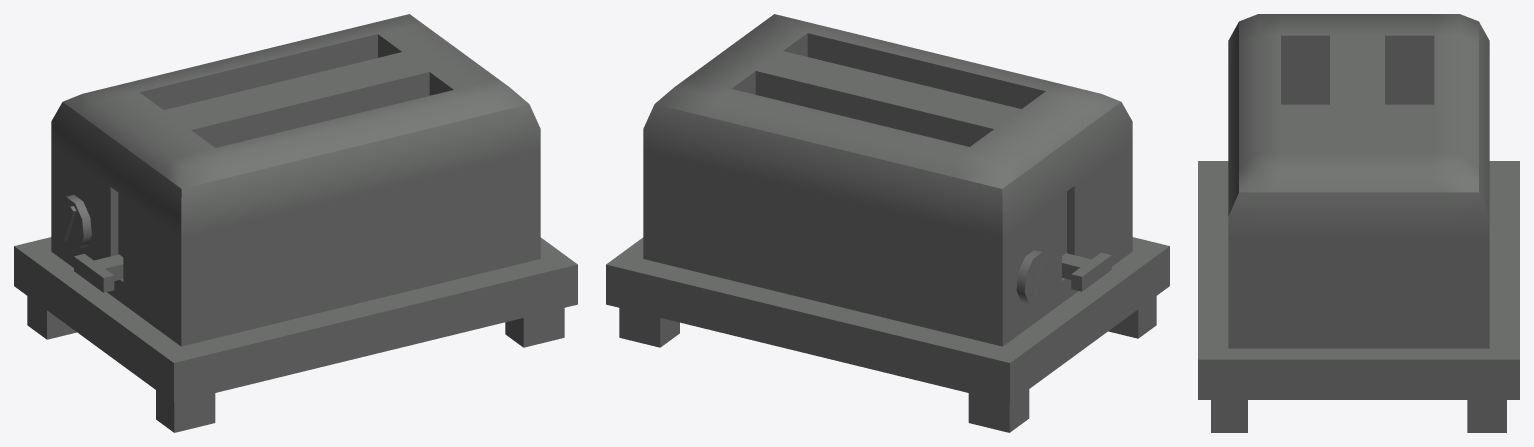
The model's file is Cocina_Tostador_21.fbx.
The picture shows the model from 3 angles, left to right: view 1: azimuth 30°, elevation 25°; view 2: azimuth 150°, elevation 25°; view 3: azimuth 270°, elevation 25°; orthographic projection.
Parts seen in each view (by area): view 1: tostador base; view 2: tostador base; view 3: tostador base.
Boxes of the visible parts, x1,y1,x2,y2 form: tostador base: (14,14,577,432); tostador base: (606,14,1169,432); tostador base: (1198,14,1519,432).
Bounding box in the file's own units: 36.02 × 20.23 × 24.32.
Materials: 1 (1 with a texture image).
